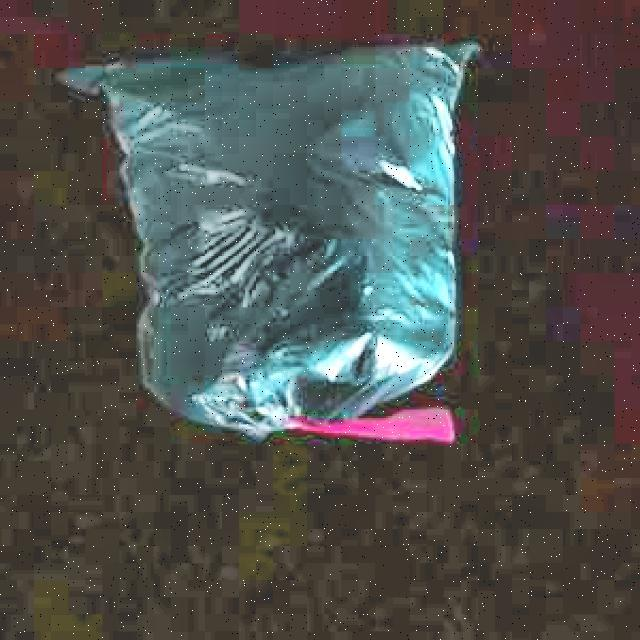Trashbag: (58, 28, 506, 442)
